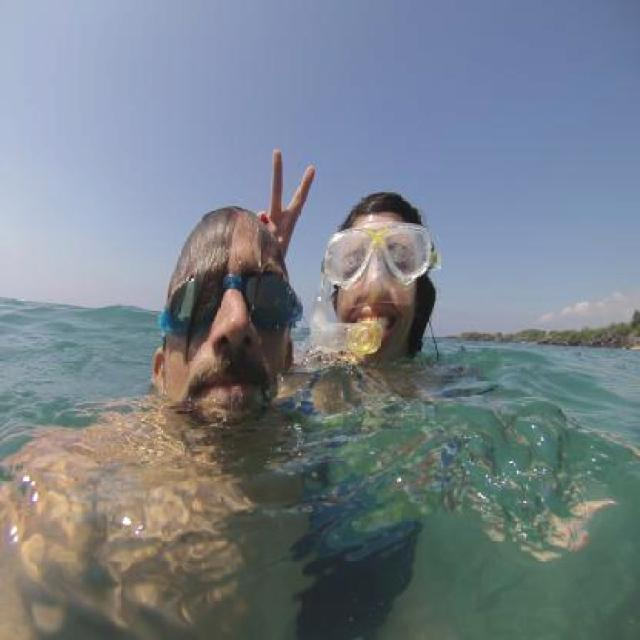glasses: (159, 264, 304, 347), (312, 224, 434, 296)
hand_noglove: (255, 148, 319, 247)
head_nohelmet: (177, 202, 281, 256), (336, 184, 432, 230)
